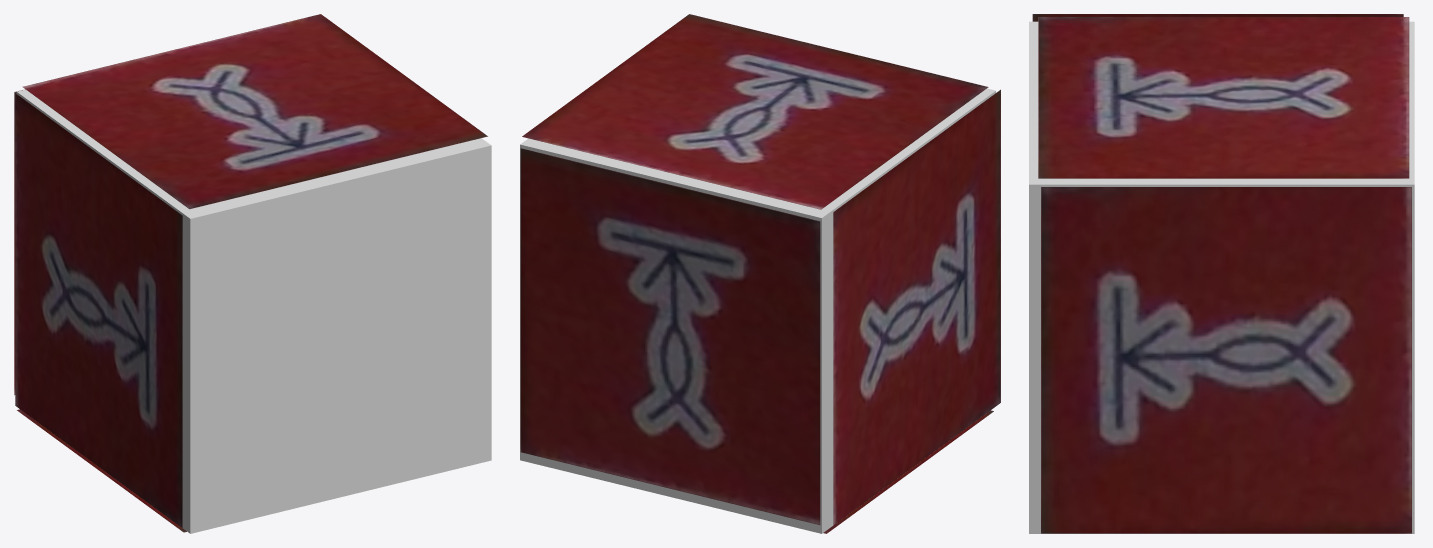
3 views of the same model, side by side, from view 1: azimuth 30°, elevation 25°; view 2: azimuth 150°, elevation 25°; view 3: azimuth 270°, elevation 25° (orthographic). The views are drawn at different scales.
Visible parts, largest first — view 1: Link28, R1.002, R1.004, R1.005, R1.001; view 2: R1.001, R1.002, R1.004, Link28, R1.005; view 3: R1.003, R1.004, Link28, R1.002.
Part boxes in pixels (x1,y1,x2,y2): Link28: [16, 89, 491, 533]; R1.002: [15, 93, 182, 527]; R1.004: [22, 14, 487, 209]; R1.005: [17, 409, 186, 532]; R1.001: [14, 89, 25, 395]; R1.001: [520, 148, 820, 524]; R1.002: [833, 89, 1000, 524]; R1.004: [522, 14, 988, 209]; Link28: [520, 88, 995, 533]; R1.005: [823, 410, 993, 533]; R1.003: [1041, 187, 1411, 533]; R1.004: [1038, 17, 1409, 178]; Link28: [1029, 21, 1414, 533]; R1.002: [1032, 14, 1403, 21].
Size of the model in its own units: 0.3585 by 0.3539 by 0.3577.
Materials: 1 (1 with a texture image).
